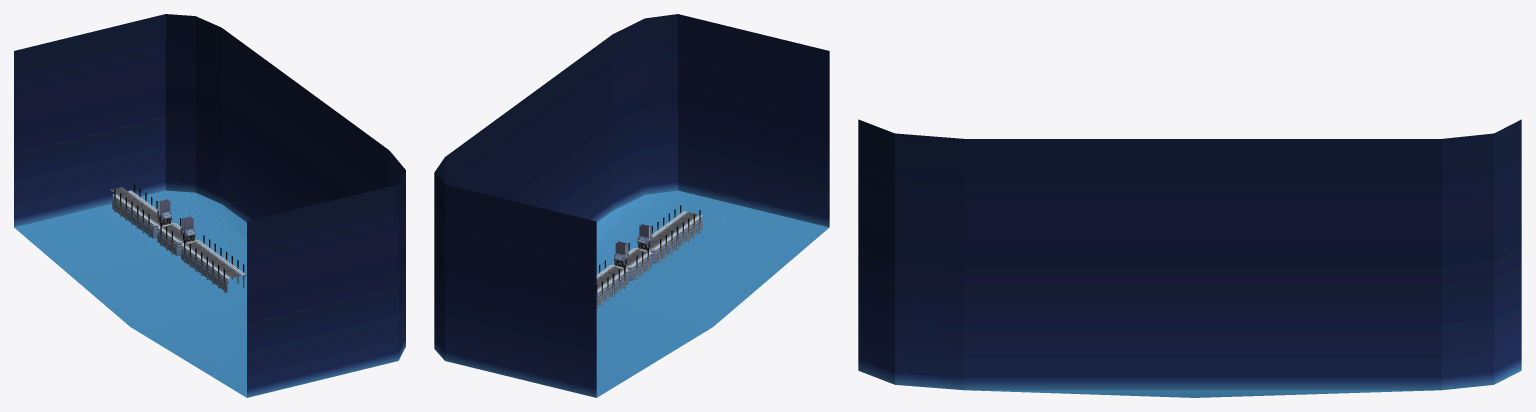
The model's file is sb_03_munitionsfactory_p01_d.fbx.
The picture shows the model from 3 angles, left to right: view 1: azimuth 30°, elevation 25°; view 2: azimuth 150°, elevation 25°; view 3: azimuth 270°, elevation 25°; orthographic projection. The views are drawn at different scales.
Parts seen in each view (by area): view 1: sb_munitionsfactory_02_obj_17; view 2: sb_munitionsfactory_02_obj_17; view 3: sb_munitionsfactory_02_obj_17.
Boxes of the visible parts, <box> form: sb_munitionsfactory_02_obj_17: <box>14,14,405,397</box>; sb_munitionsfactory_02_obj_17: <box>434,14,829,397</box>; sb_munitionsfactory_02_obj_17: <box>858,119,1521,397</box>.
Size of the model in its own units: 97.19 by 98.62 by 218.
Materials: 9 (9 with a texture image).
